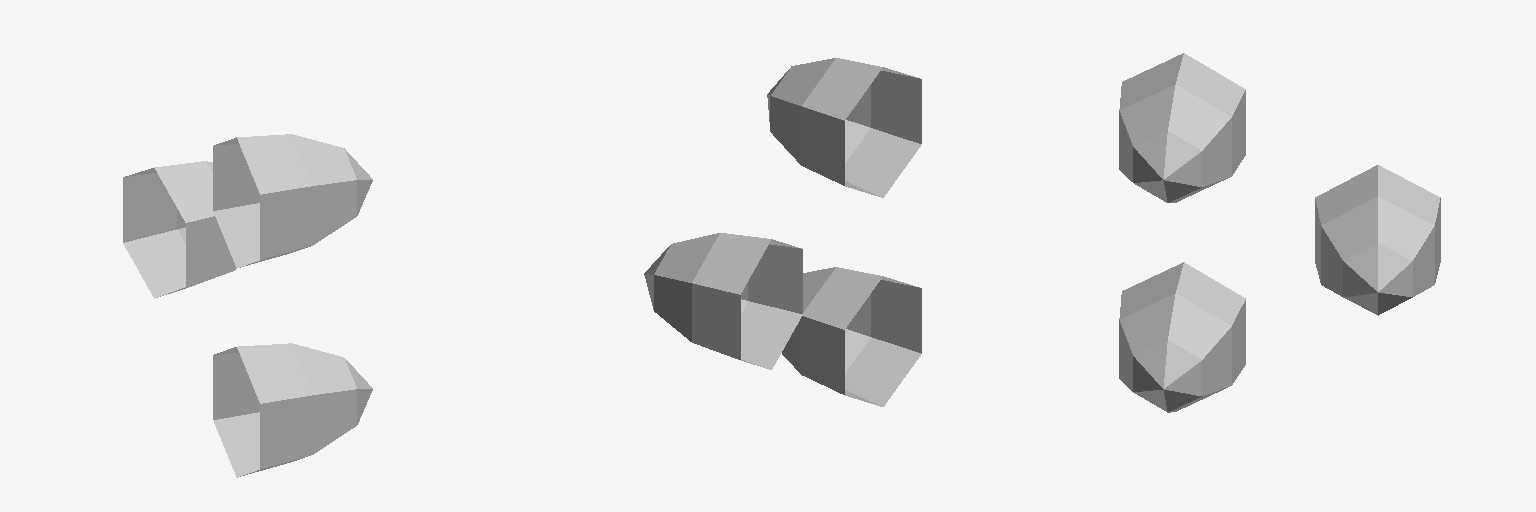
File: enginside.obj
The picture shows the model from 3 angles: view 1: azimuth 30°, elevation 25°; view 2: azimuth 150°, elevation 25°; view 3: azimuth 270°, elevation 25°; orthographic projection.
Parts seen in each view (by area): view 1: enginside; view 2: enginside; view 3: enginside.
Part boxes in pixels (x1,y1,x2,y2): enginside: (123, 134, 372, 477); enginside: (644, 58, 921, 406); enginside: (1119, 53, 1440, 412).
Bounding box in the file's own units: 0.0843 × 0.1831 × 0.1566.